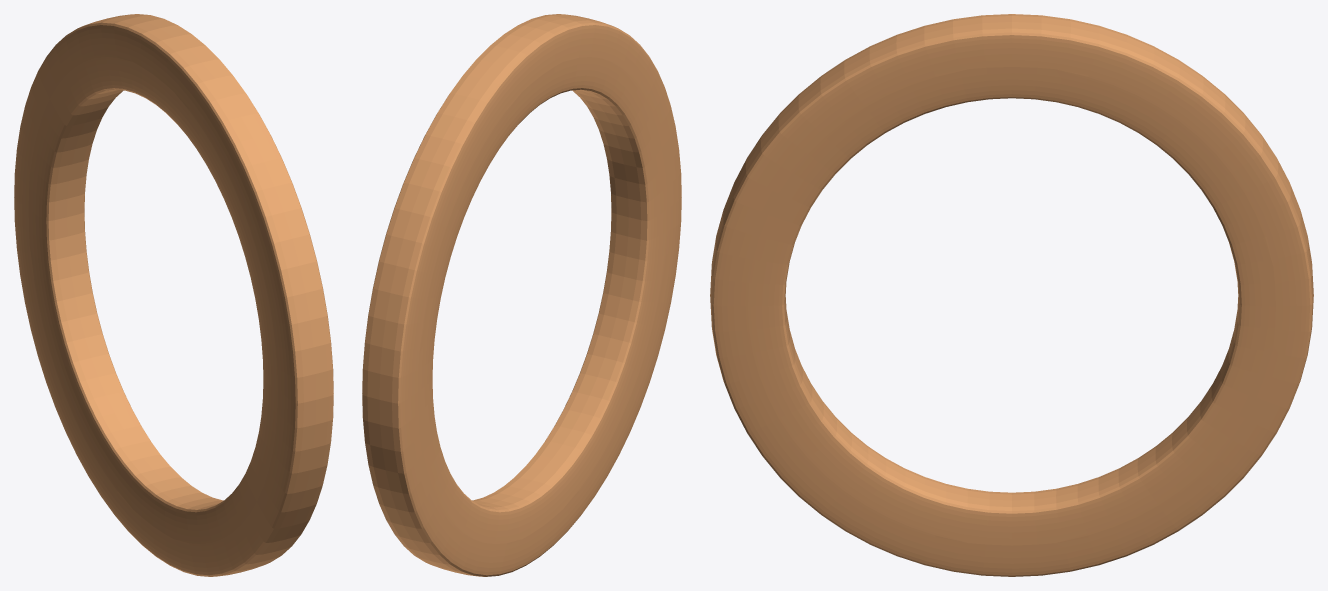
Rendered from Miss Token.fbx.
3 views of the same model, side by side, from view 1: azimuth 30°, elevation 25°; view 2: azimuth 150°, elevation 25°; view 3: azimuth 270°, elevation 25° (orthographic). The views are drawn at different scales.
Parts seen in each view (by area): view 1: Miss Icon; view 2: Miss Icon; view 3: Miss Icon.
Part boxes in pixels (x1,y1,x2,y2): Miss Icon: (14,14,333,576); Miss Icon: (362,14,681,576); Miss Icon: (710,14,1313,576).
Size of the model in its own units: 10 by 119 by 119.
